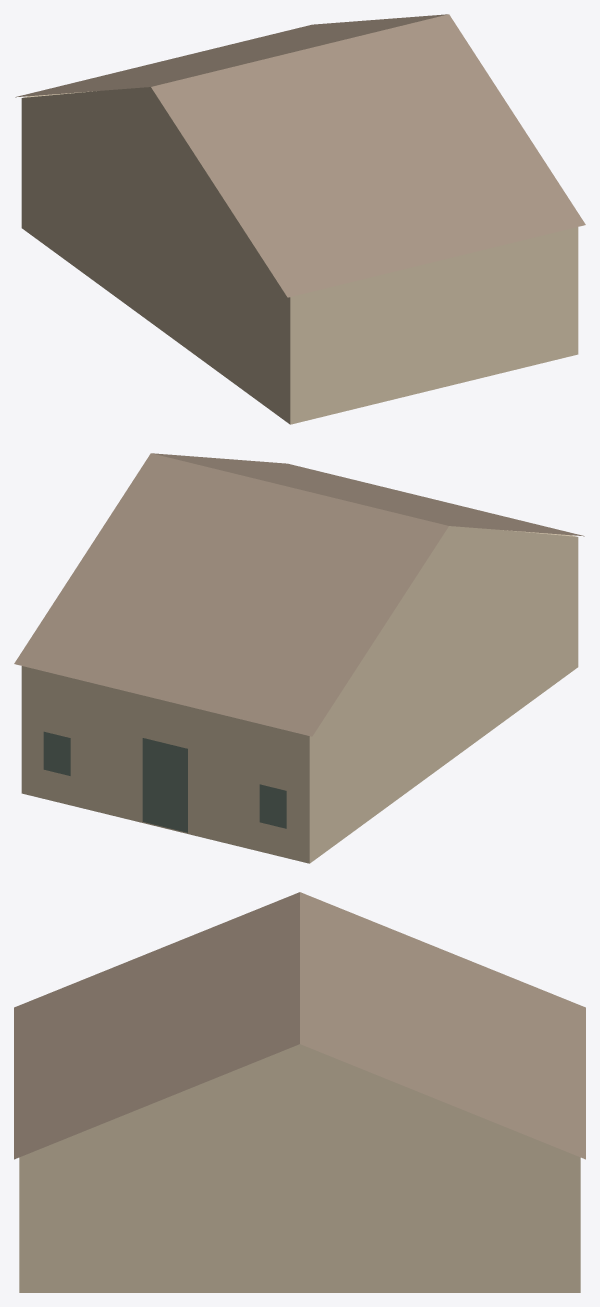
File: recon_1835_north_w5_040__recommended_1835.glb
3 views of the same model, one above another, from view 1: azimuth 30°, elevation 25°; view 2: azimuth 150°, elevation 25°; view 3: azimuth 270°, elevation 25° (orthographic). The views are drawn at different scales.
Parts seen in each view (by area): view 1: recon_1835_north_w5_040__recommended_1835; view 2: recon_1835_north_w5_040__recommended_1835; view 3: recon_1835_north_w5_040__recommended_1835.
Boxes of the visible parts, box(x1,y1,x2,y2) form: recon_1835_north_w5_040__recommended_1835: box(15, 14, 585, 424); recon_1835_north_w5_040__recommended_1835: box(14, 453, 584, 863); recon_1835_north_w5_040__recommended_1835: box(14, 892, 585, 1292).
Bounding box in the file's own units: 8.2 × 6.33 × 13.04.
